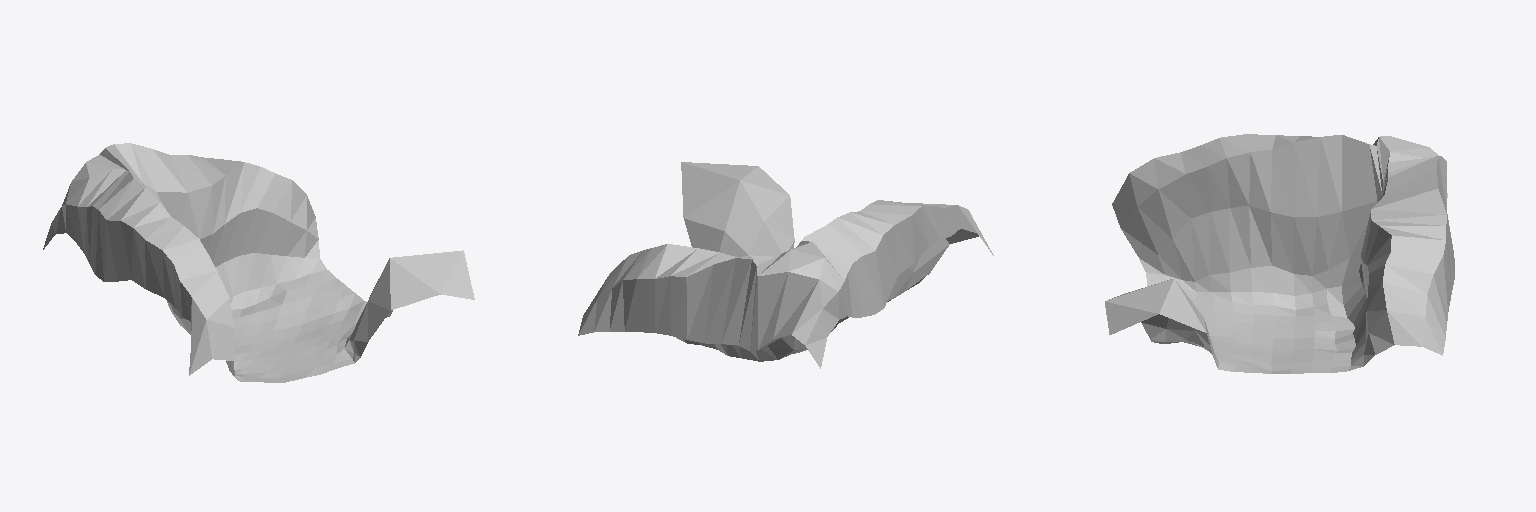
Rendered from planoL.obj.
The picture shows the model from 3 angles: view 1: azimuth 30°, elevation 25°; view 2: azimuth 150°, elevation 25°; view 3: azimuth 270°, elevation 25°; orthographic projection.
Parts seen in each view (by area): view 1: Plane; view 2: Plane; view 3: Plane.
Part boxes in pixels (x1,y1,x2,y2): Plane: (43, 143, 474, 382); Plane: (578, 162, 993, 368); Plane: (1105, 134, 1454, 373).
Bounding box in the file's own units: 2.3 × 1.15 × 2.37.